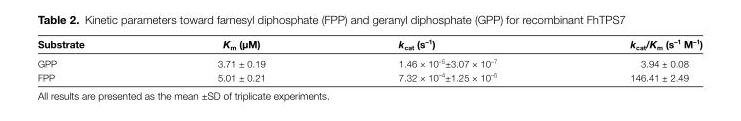table: (36, 36, 702, 82)
table column: (331, 36, 562, 82), (150, 36, 331, 82), (562, 36, 702, 82), (36, 36, 150, 82)
table column header: (36, 36, 702, 53)
table row: (36, 36, 702, 53), (36, 53, 702, 69), (36, 69, 702, 82)
